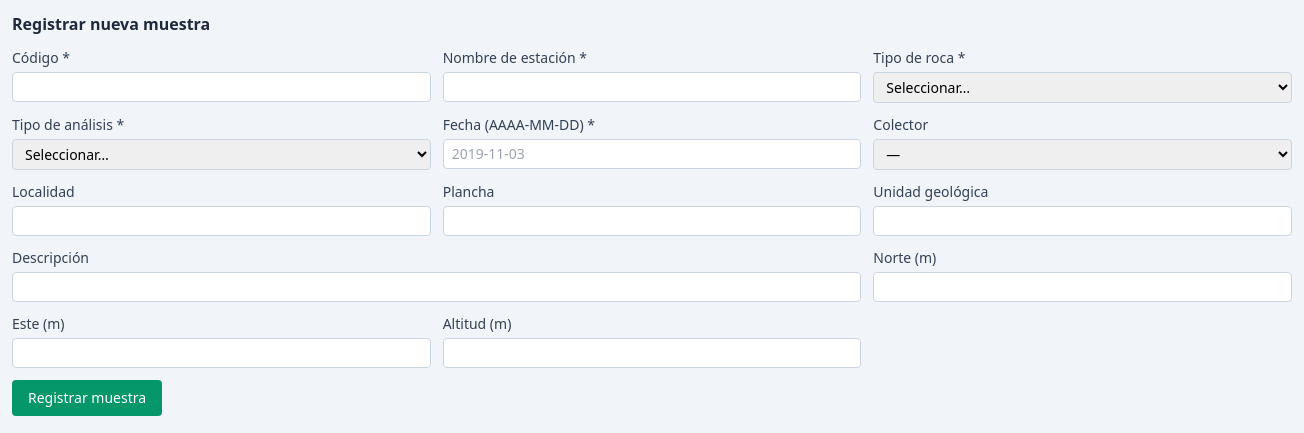
Test: RegistrationForm › displays the server 400 error message
In the field labelled "Código *": (221, 87) [12, 72, 431, 102], type "ZZX9999"
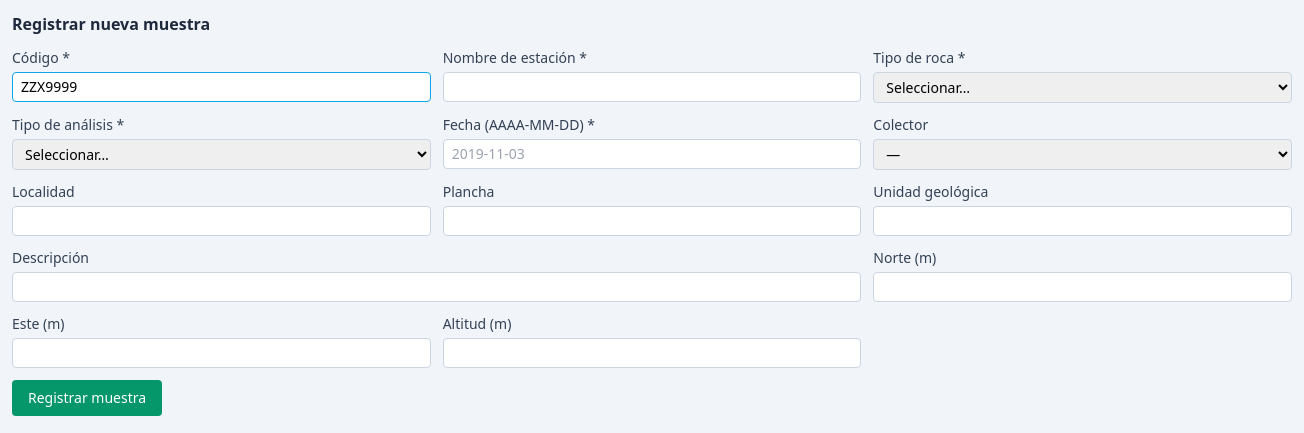
In the field labelled "Nombre de estación *": (652, 87) [443, 72, 861, 102], type "Estacion Nueva"
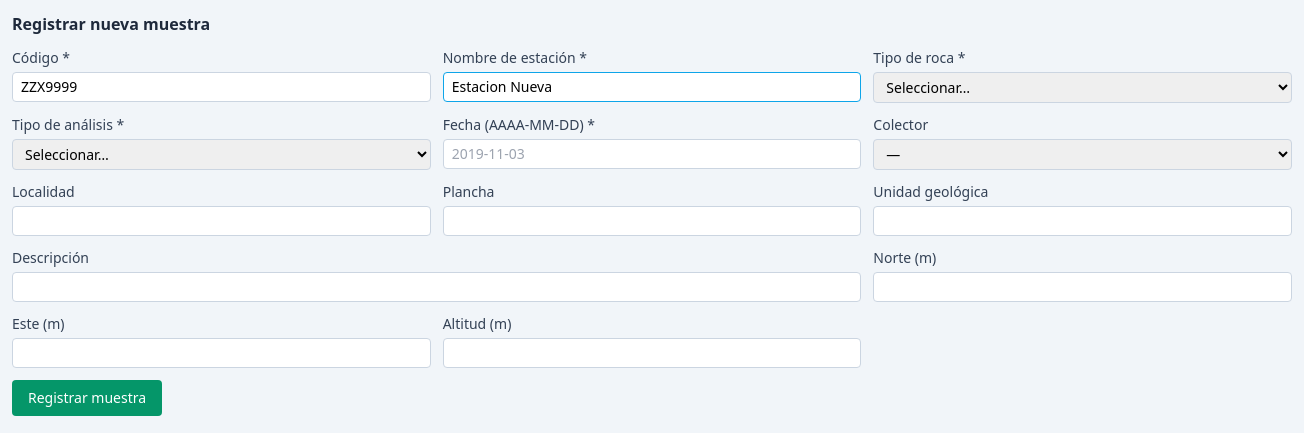
Select "Granito" in the dropdown labelled "Tipo de roca *": (1083, 88) [873, 72, 1292, 103]
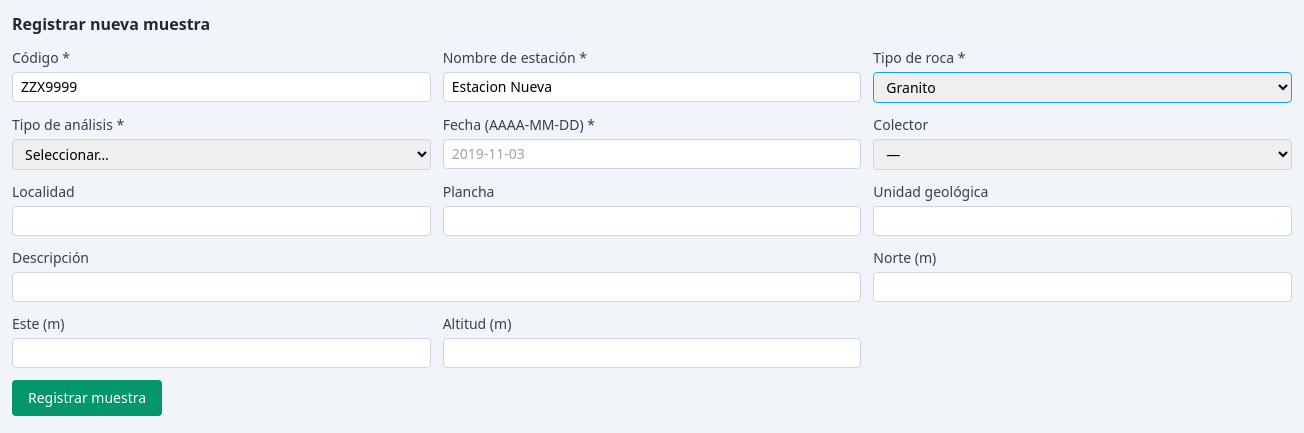
Select "Seccion Delgada" in the dropdown labelled "Tipo de análisis *": (221, 154) [12, 139, 431, 170]
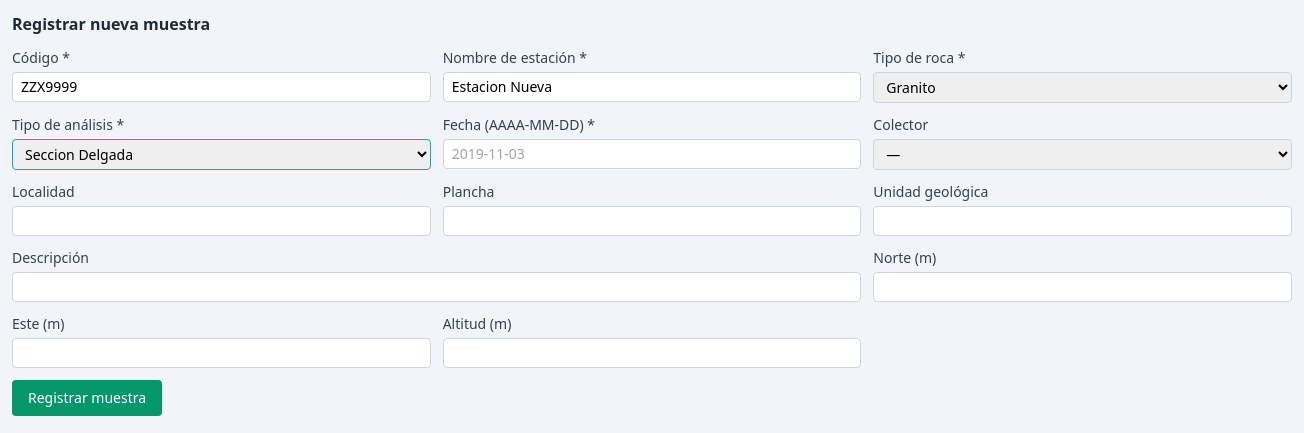
In the field labelled "Fecha (AAAA-MM-DD) *": (652, 154) [443, 139, 861, 169], type "2024-05-01"
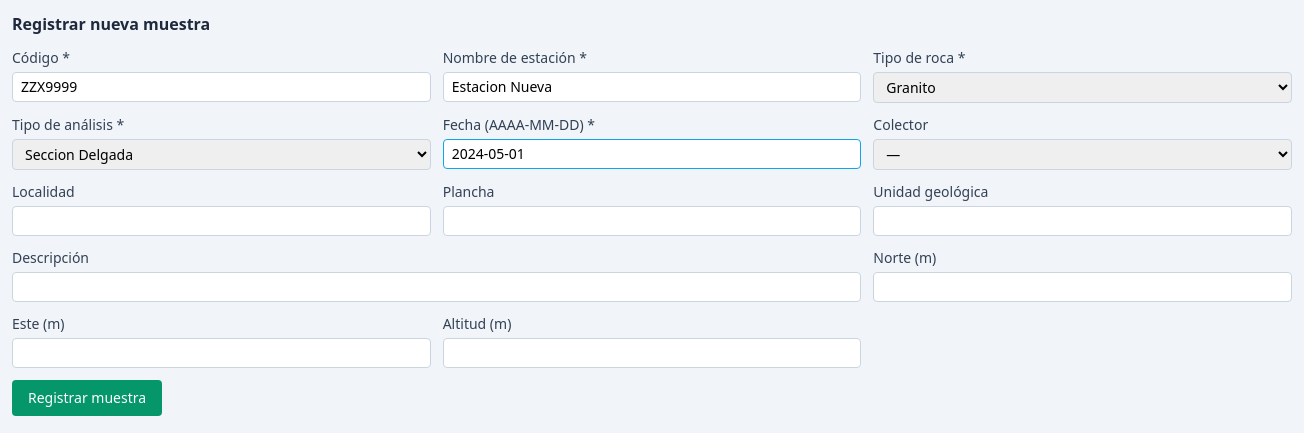
Click the button "Registrar muestra": (87, 398) [12, 380, 162, 416]
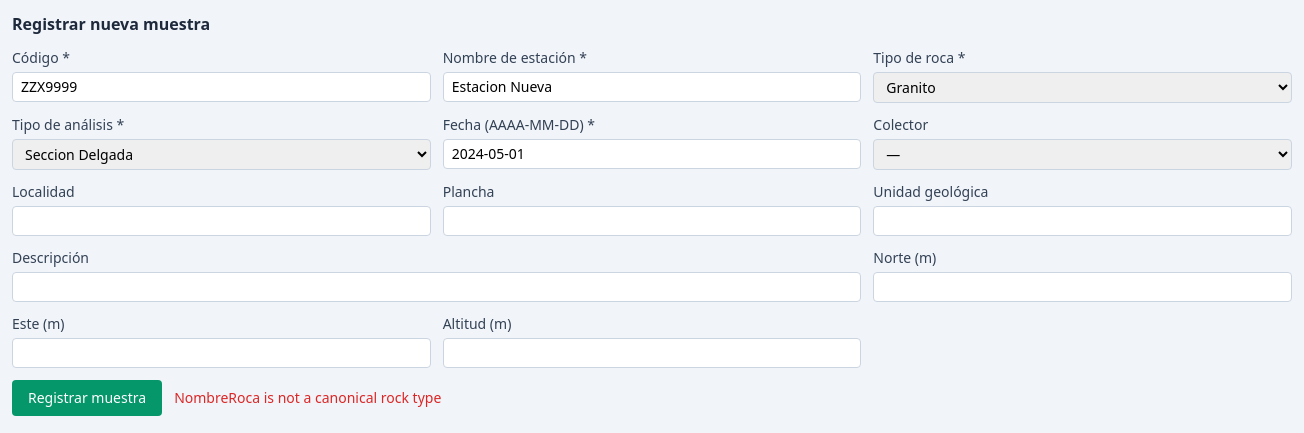
Result: the text with test id "reg-error" reads "NombreRoca is not a canonical rock type" at [174, 388, 441, 407]
